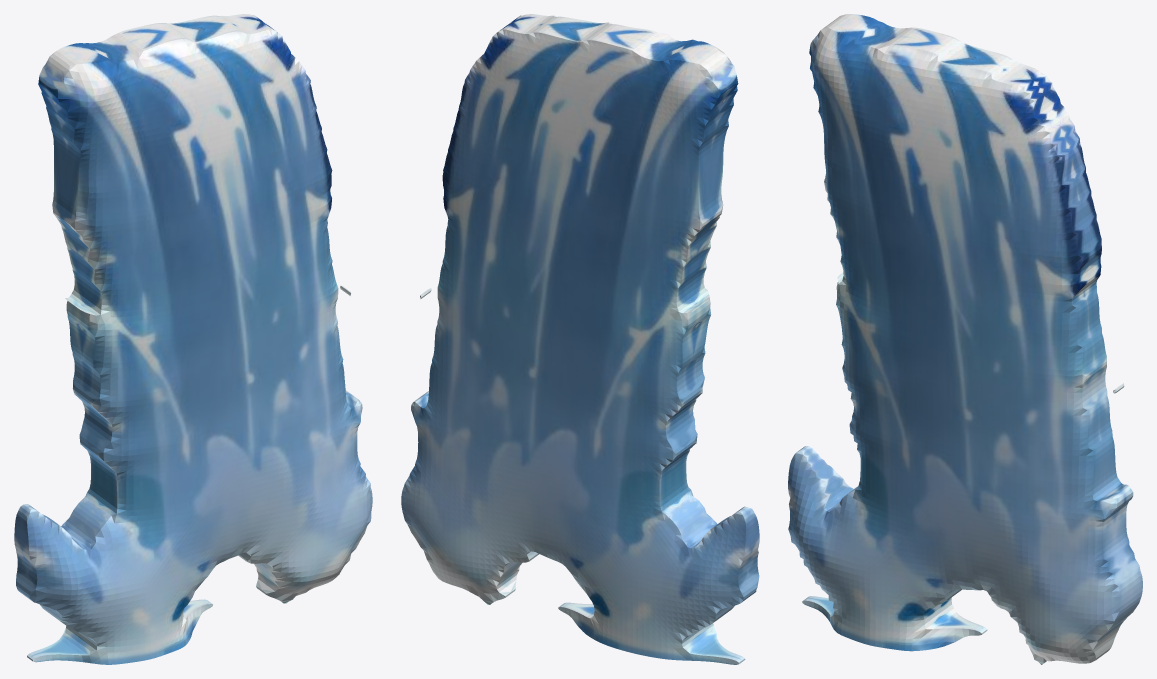
The model's file is waterfall.glb.
The picture shows the model from 3 angles, left to right: view 1: azimuth 30°, elevation 25°; view 2: azimuth 150°, elevation 25°; view 3: azimuth 330°, elevation 25°; orthographic projection.
Parts seen in each view (by area): view 1: geometry_0; view 2: geometry_0; view 3: geometry_0.
Part boxes in pixels (<box>): geometry_0: <box>14,14,372,664</box>; geometry_0: <box>401,14,759,664</box>; geometry_0: <box>788,14,1142,664</box>.
Bounding box in the file's own units: 3.15 × 5.3 × 0.7528.
Materials: 1 (1 with a texture image).
